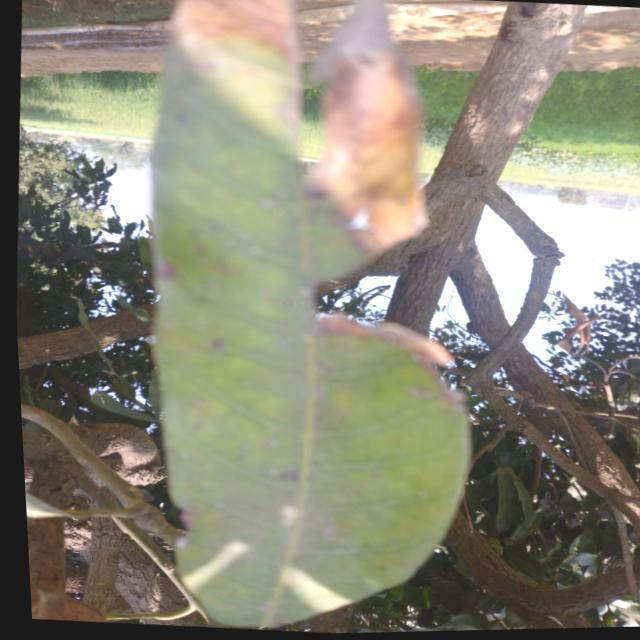Anthracnose: (285, 0, 440, 245), (171, 0, 298, 63)
